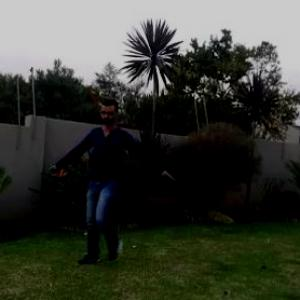land: (44, 98, 178, 262)
